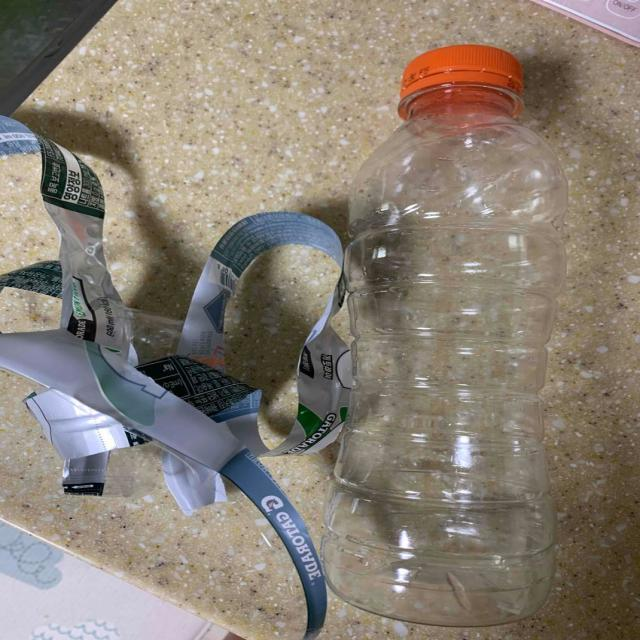chai: (322, 45, 568, 626)
